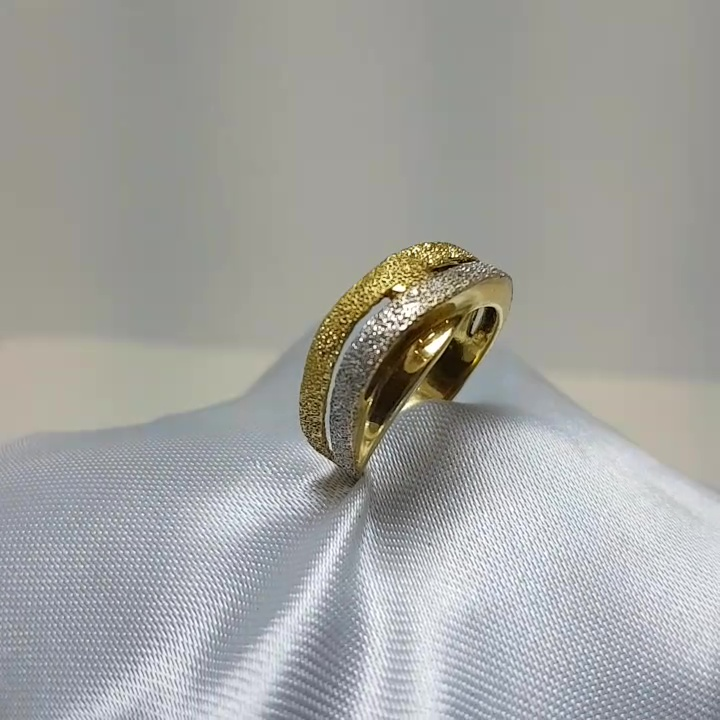Ring 5: (274, 228, 544, 506)
